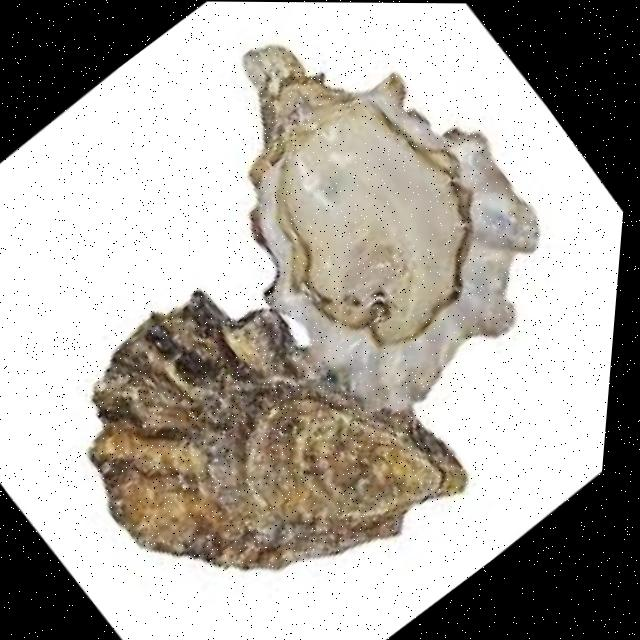Oyster-Indeterminate: (91, 291, 467, 568)
Oyster-Open: (243, 45, 536, 409)
